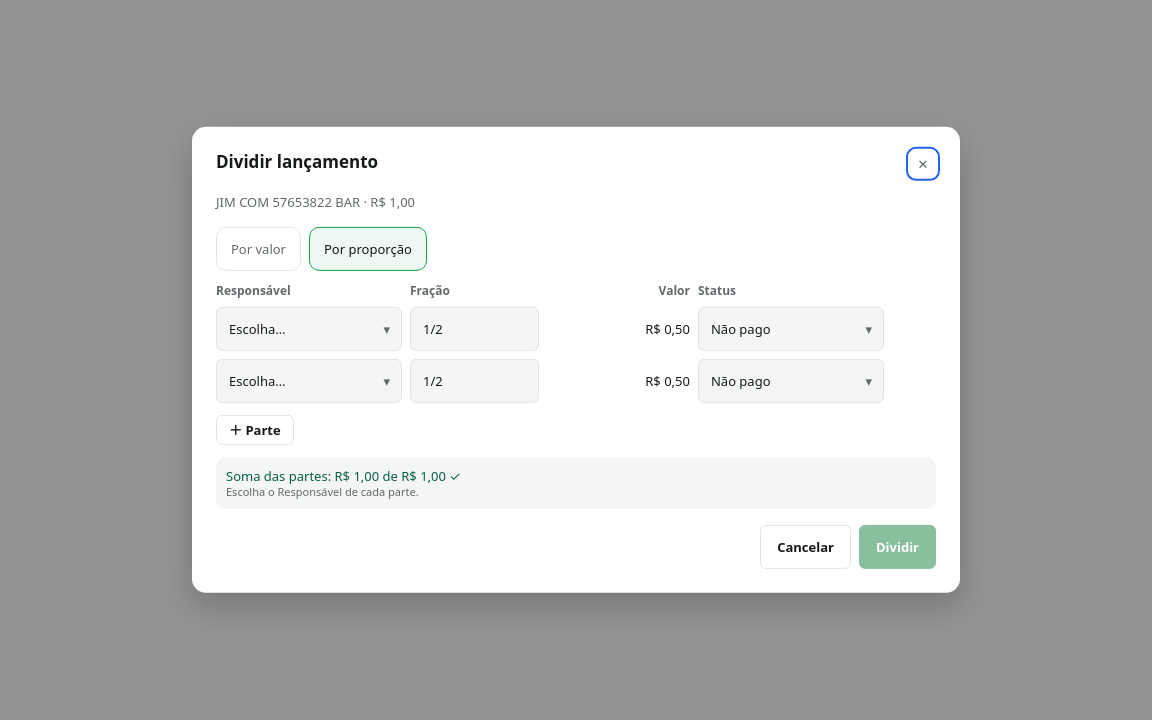
Test: JanelaDividir › em três partes iguais de R$ 1,00 a última leva o centavo que sobra e a janela mostra '(+1 centavo)'
The width and height of the screenshot is (1152, 720).
Click the button "＋ Parte": click(255, 430) [216,415,294,445]
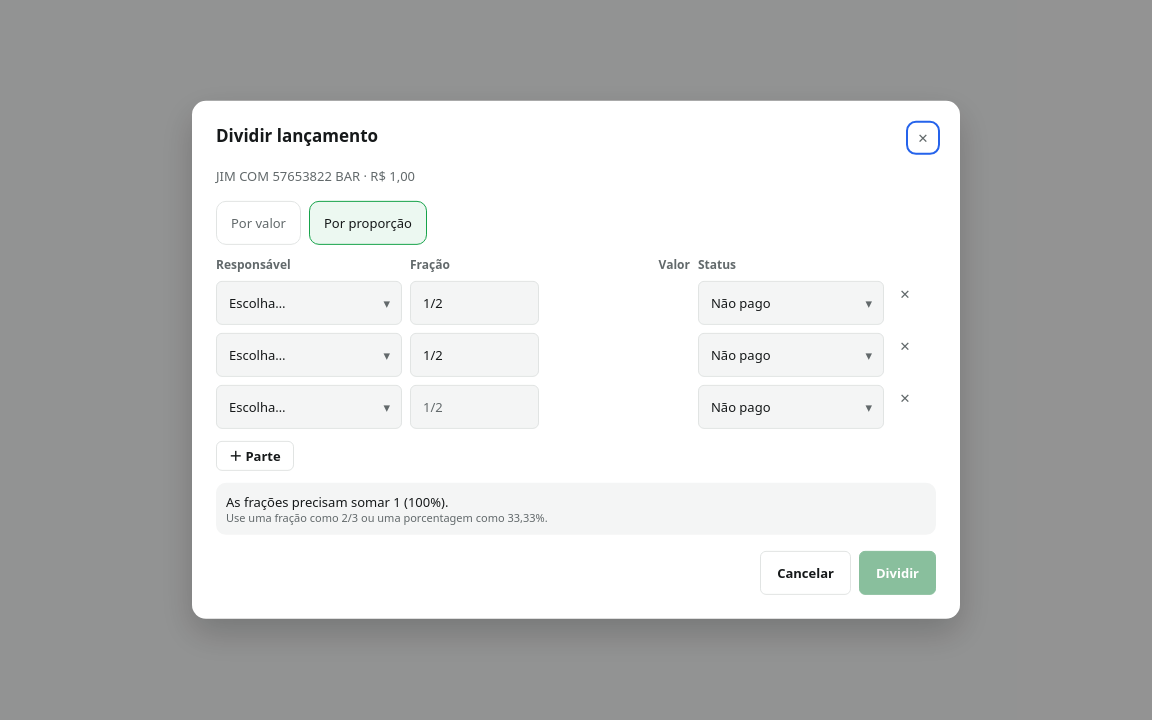
Select "Mãe" in the dropdown named "Responsável 1": (309, 303) [216,281,402,325]
In the field named "Fração 1": (474, 303) [410,281,539,325], type "1/3"
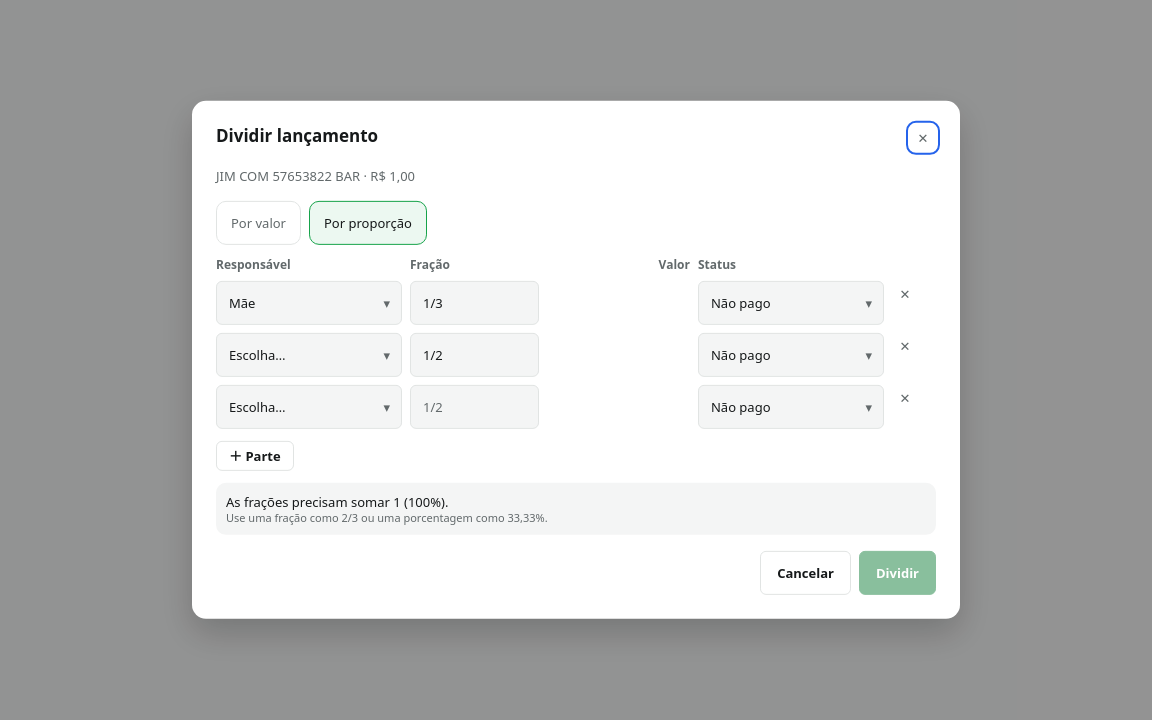
Select "Rafael" in the dropdown named "Responsável 2": (309, 355) [216,333,402,377]
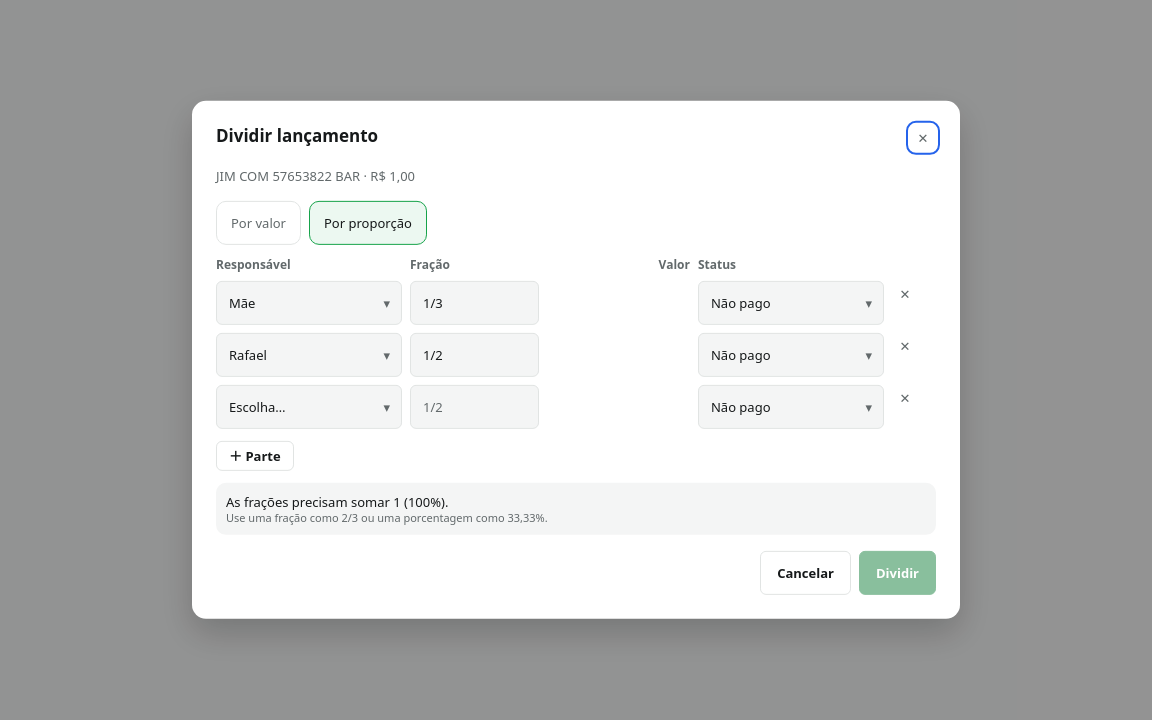
In the field named "Fração 2": (474, 355) [410,333,539,377], type "1/3"
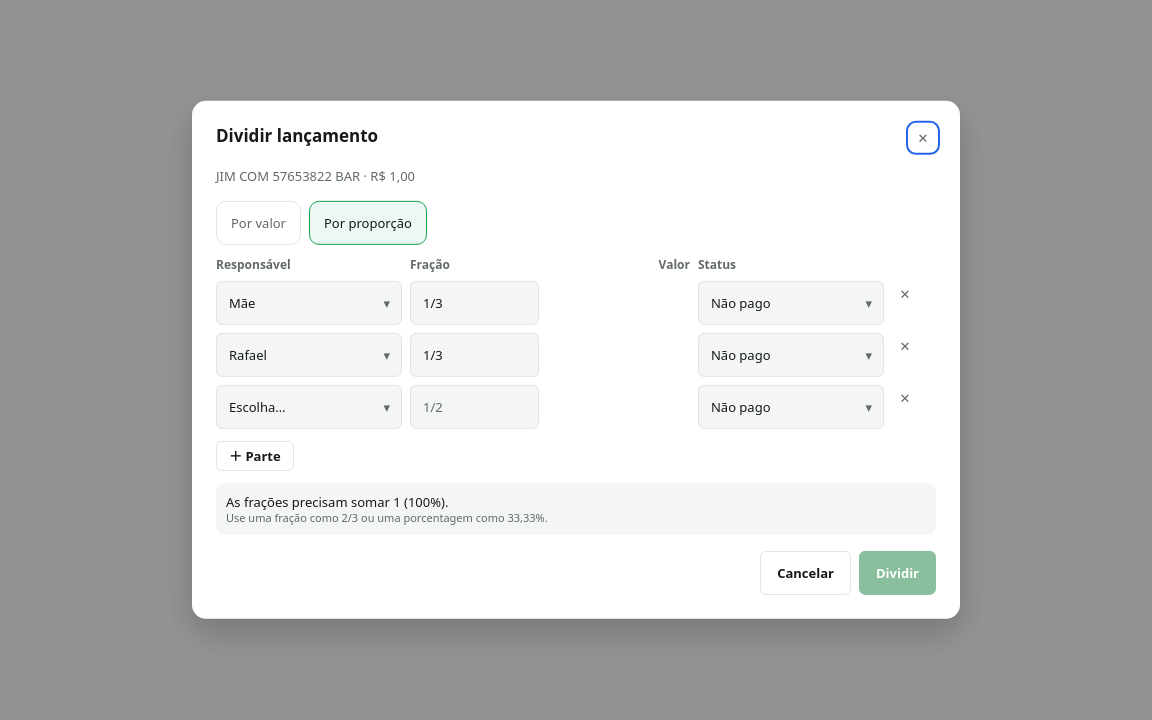
Select "Mãe" in the dropdown named "Responsável 3": (309, 407) [216,385,402,429]
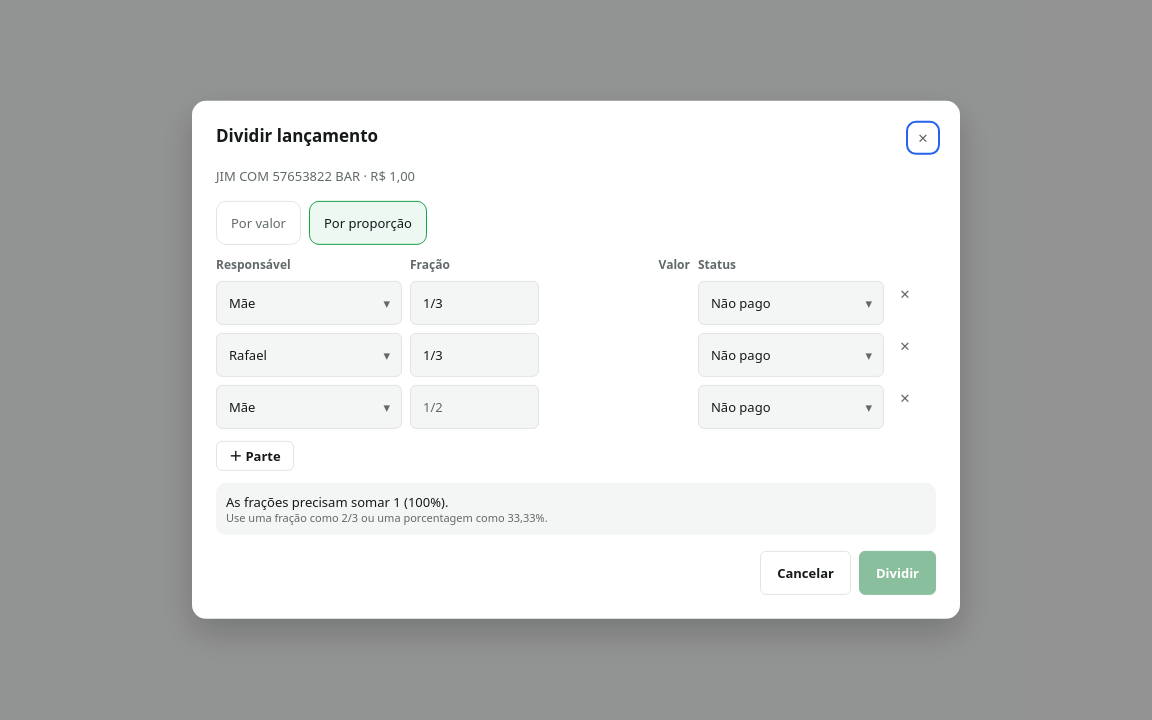
In the field with placeholder "1/2": (474, 407) [410,385,539,429], type "1/3"
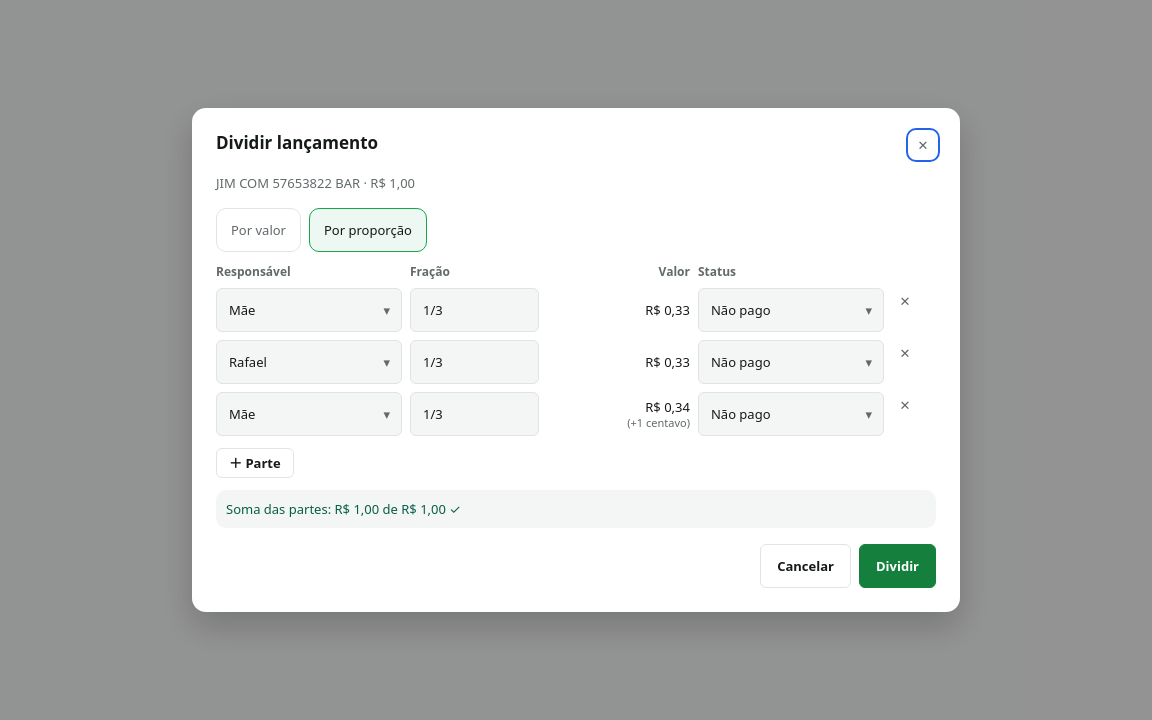
Expected: the text "R$ 0,33" is shown, [645,301,690,319]
Expected: the text "R$ 0,34" is shown, [645,398,690,416]
Expected: the text "(+1 centavo)" is shown, [627,416,690,430]
